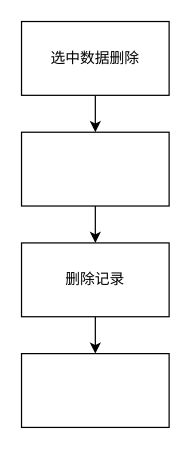
The diagram is 191 pixels wide and 449 high, and some of its shapes have lost their labels. Each missing label, with the centre of its shape:
"删除录制文件" goes at [94,168].
"成功" goes at [94,389].
